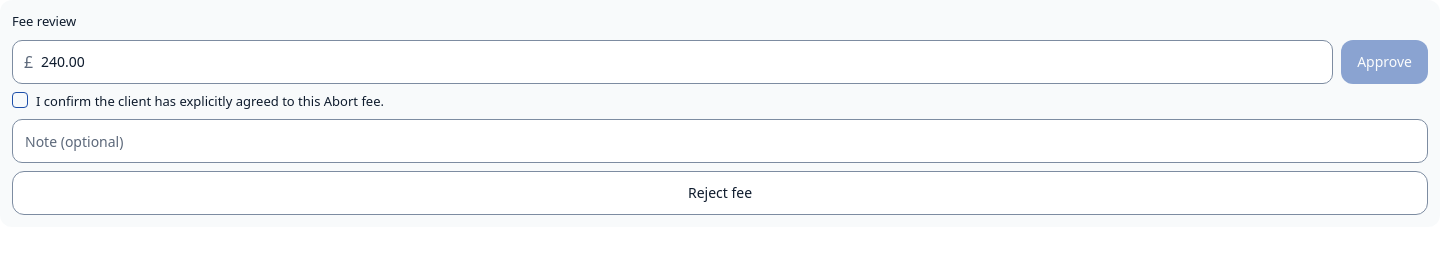
Test: Abort fee-review lock › approves a client-confirmed fee higher than the original job price without changing pricing
Later steps or results of the test are not shown.
Replace the text in the field named "Amount to approve" with "275.00" at (673, 62), box [12,40,1333,84]
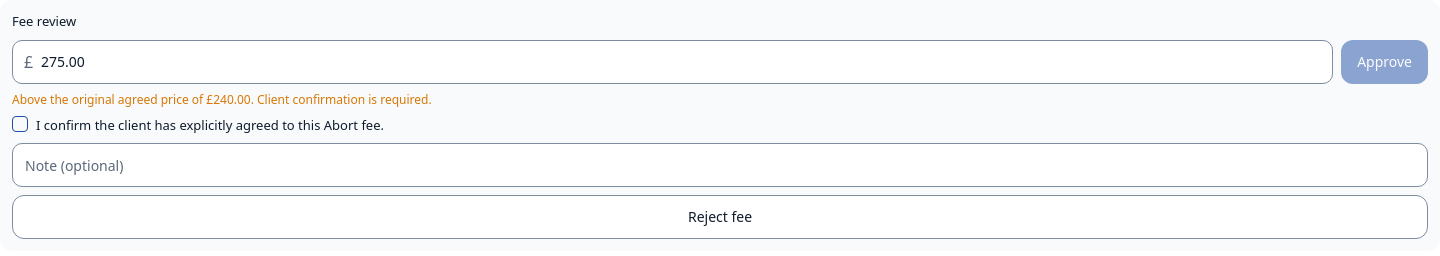
Expected: the button "Approve" is disabled, [1341,40,1428,84]
Result: the text "Above the original agreed price of £240.00" is shown at [12,90,432,108]
